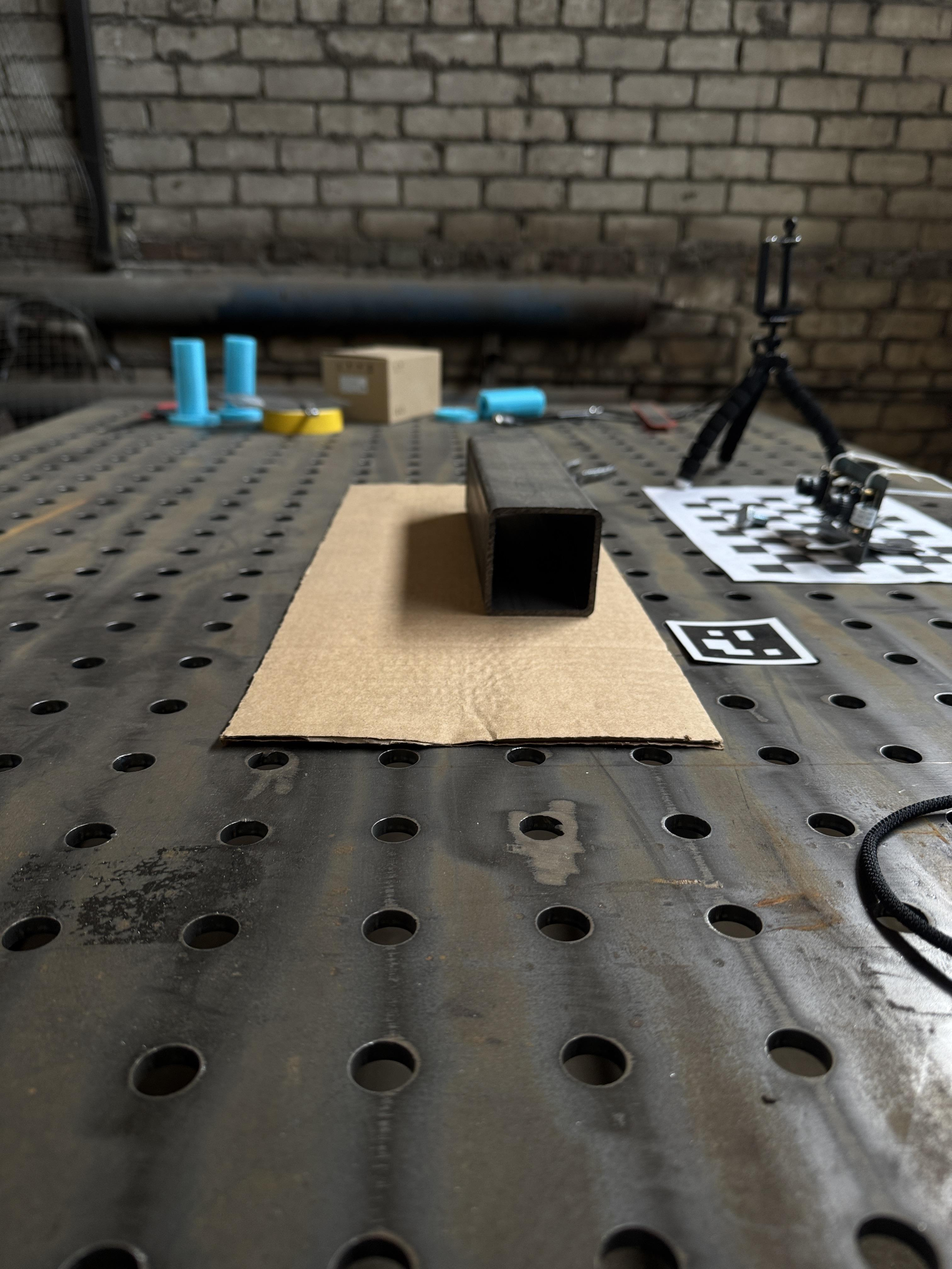detail: (466, 435, 603, 618)
